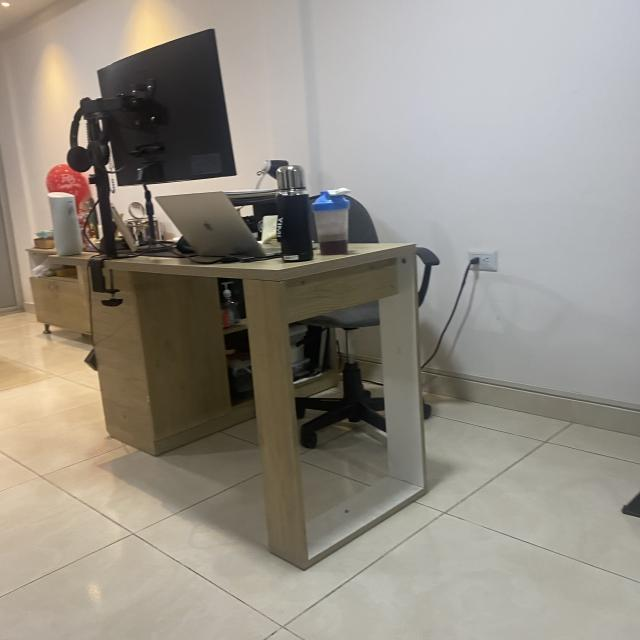obstacle: (80, 140, 446, 576)
